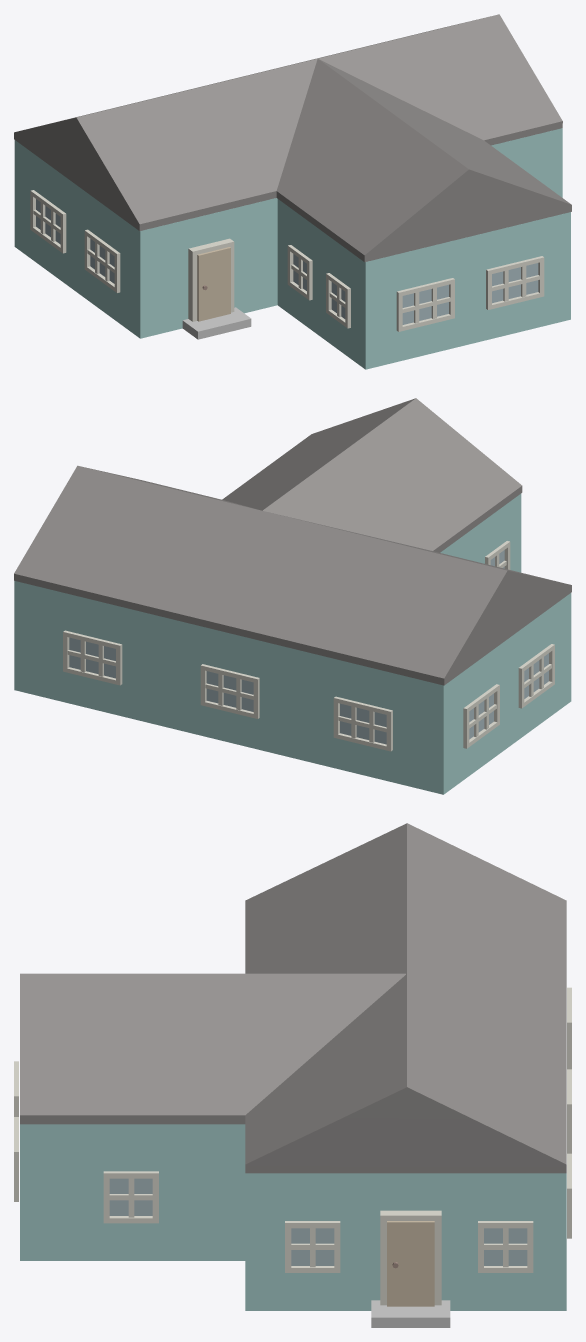
Rendered from house07.fbx.
3 views of the same model, one above another, from view 1: azimuth 30°, elevation 25°; view 2: azimuth 150°, elevation 25°; view 3: azimuth 270°, elevation 25° (orthographic). The views are drawn at different scales.
Parts seen in each view (by area): view 1: house07, roof014, roof015, door9 (×4), doorCentre, pPlane2 (×2), door5 (×2), doorFrame, step, door17 (×2); view 2: roof014, house07, roof015, door9 (×5), pPlane2 (×3), door17 (×3); view 3: roof014, house07, roof015, doorCentre, door5 (×3), pPlane1 (×3), doorFrame, step.
Part boxes in pixels (box(x1,y1,x2,y2)): house07: box(14, 128, 570, 369); roof014: box(14, 14, 562, 230); roof015: box(276, 59, 571, 262); door9 (×4): box(30, 190, 544, 331); doorCentre: box(197, 247, 230, 321); pPlane2 (×2): box(402, 263, 538, 324); door5 (×2): box(287, 245, 350, 328); doorFrame: box(188, 238, 234, 321); step: box(182, 307, 251, 339); door17 (×2): box(402, 266, 539, 323); roof014: box(14, 465, 571, 685); house07: box(14, 493, 571, 794); roof015: box(222, 398, 522, 552); door9 (×5): box(63, 630, 554, 751); pPlane2 (×3): box(69, 637, 386, 744); door17 (×3): box(67, 640, 386, 742); roof014: box(245, 823, 566, 1173); house07: box(20, 1124, 566, 1310); roof015: box(20, 973, 405, 1124); doorCentre: box(387, 1221, 434, 1306); door5 (×3): box(103, 1171, 533, 1272); pPlane1 (×3): box(109, 1178, 527, 1265); doorFrame: box(380, 1210, 441, 1305); step: box(371, 1300, 450, 1327).
Size of the model in its own units: 9.32 by 3.44 by 7.77.
